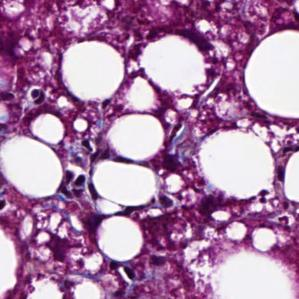inflammation: (57, 169, 90, 204), (25, 83, 50, 107), (26, 85, 48, 107)
